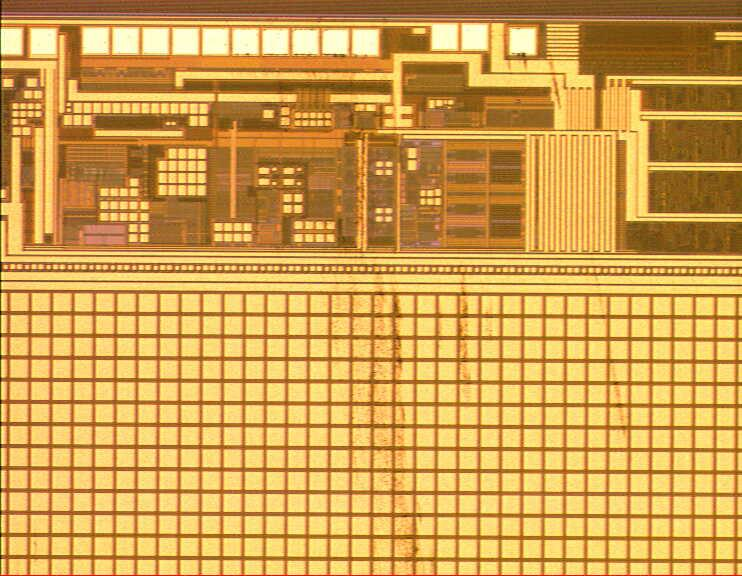SCRATCH: (320, 240, 648, 576)
